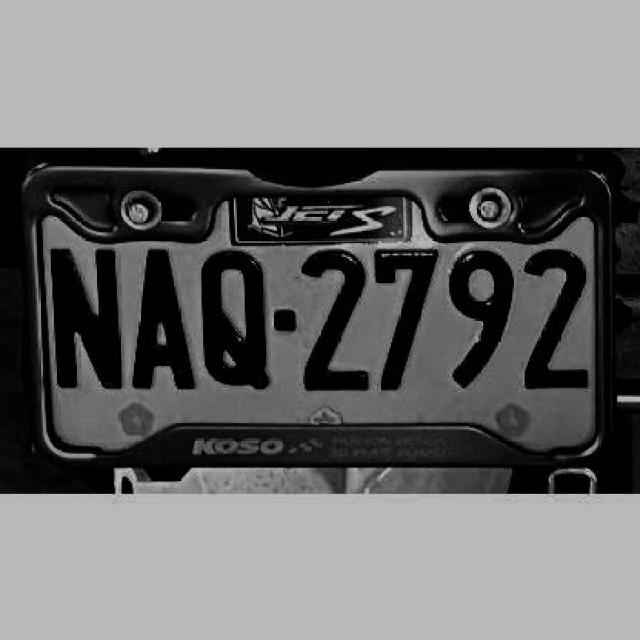-: (272, 303, 297, 329)
2: (294, 244, 369, 394), (520, 245, 589, 392)
7: (369, 243, 442, 392)
9: (444, 246, 518, 386)
A: (126, 243, 197, 394)
N: (46, 243, 122, 386)
Q: (202, 251, 270, 395)
